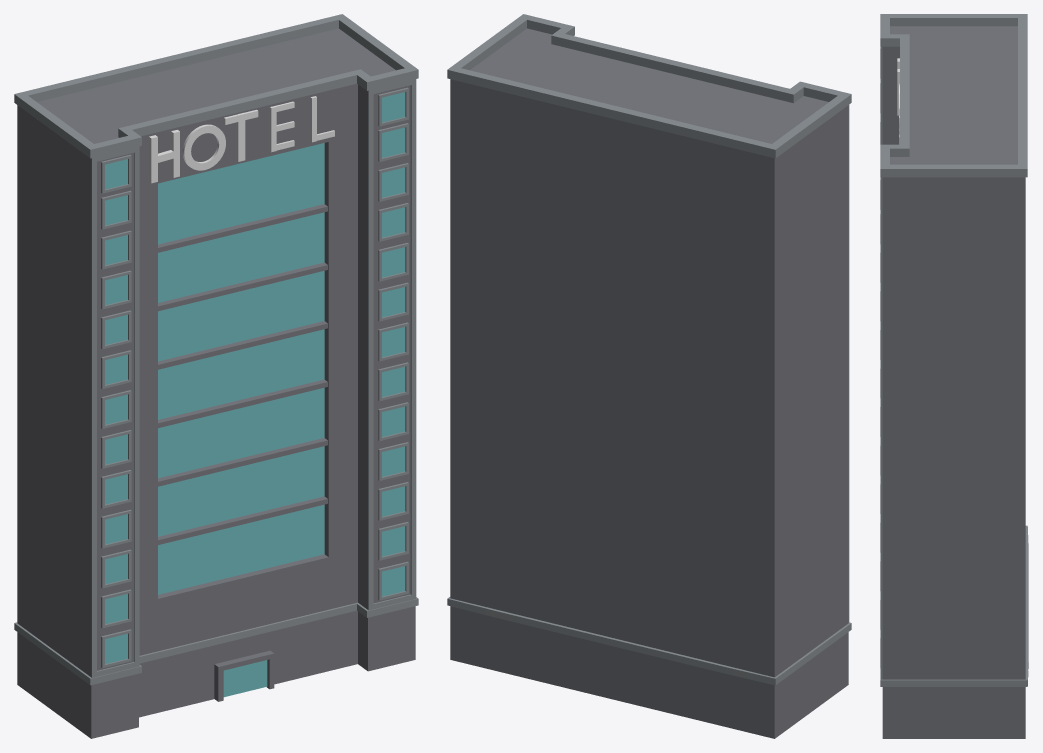
The model's file is Flat1.fbx.
3 views of the same model, side by side, from view 1: azimuth 30°, elevation 25°; view 2: azimuth 150°, elevation 25°; view 3: azimuth 270°, elevation 25° (orthographic). The views are drawn at different scales.
Parts seen in each view (by area): view 1: Flat1; view 2: Flat1; view 3: Flat1.
Part boxes in pixels (left/top/right/bottom): Flat1: left=14, top=14, right=418, bottom=738; Flat1: left=447, top=14, right=851, bottom=738; Flat1: left=880, top=14, right=1028, bottom=738.
Bounding box in the file's own units: 709 × 1218 × 287.
